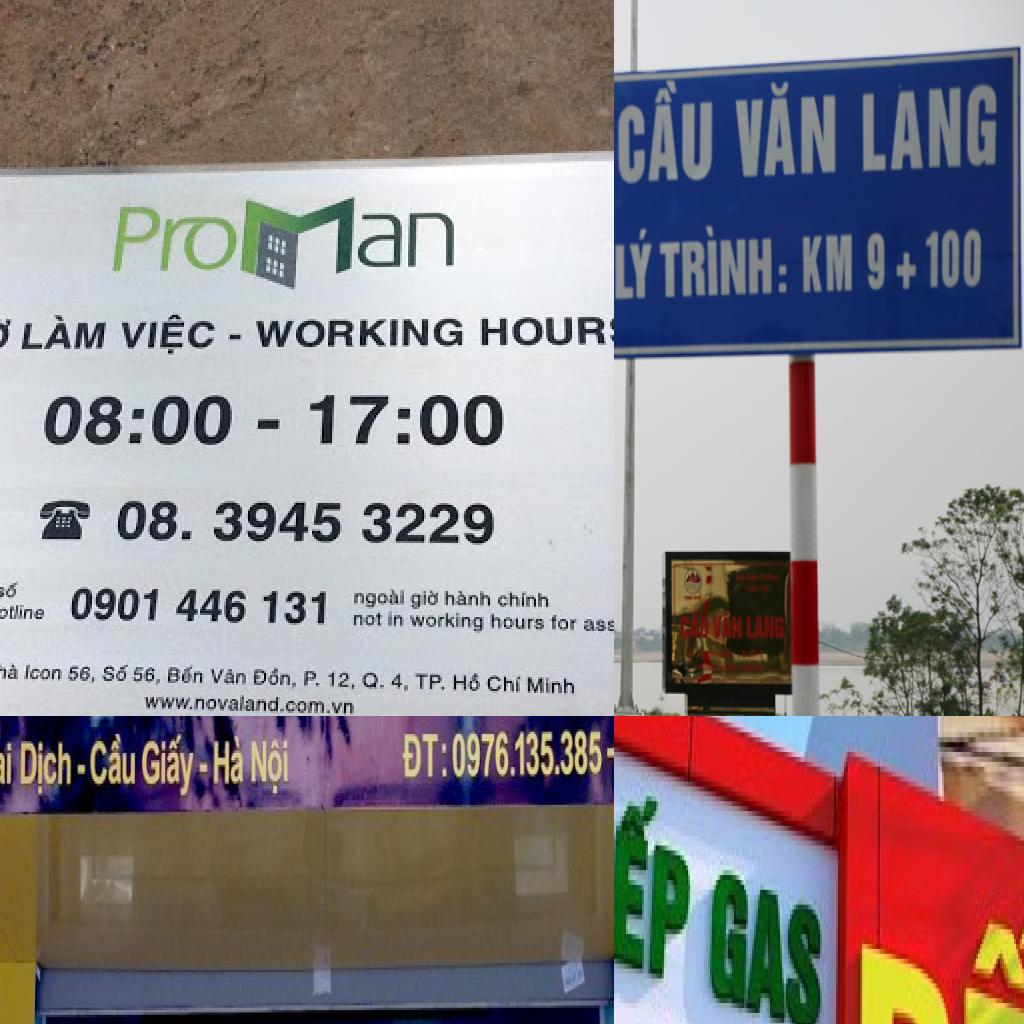text: (852, 836, 1024, 1024), (702, 850, 832, 1024), (614, 757, 700, 1008), (114, 497, 498, 549), (68, 583, 332, 631), (861, 84, 997, 174), (306, 391, 508, 449), (40, 393, 240, 449), (731, 79, 838, 180), (617, 78, 714, 186), (658, 221, 788, 301), (108, 203, 242, 277), (453, 725, 605, 781), (254, 315, 468, 353), (356, 211, 460, 273), (142, 693, 360, 716), (478, 313, 614, 349), (118, 315, 220, 357), (18, 313, 112, 355), (142, 732, 198, 800), (926, 228, 983, 290), (19, 736, 72, 798), (802, 233, 854, 295), (399, 727, 451, 786), (614, 227, 654, 302), (249, 729, 290, 798), (90, 732, 139, 788), (211, 727, 245, 793), (408, 611, 486, 635), (252, 665, 300, 693), (352, 587, 408, 611), (526, 675, 578, 699), (867, 232, 887, 294), (496, 589, 552, 611), (490, 613, 548, 633), (746, 614, 786, 642), (0, 603, 48, 625), (24, 661, 66, 685), (444, 589, 494, 609), (166, 663, 206, 687), (208, 667, 250, 689), (681, 608, 709, 641), (486, 673, 524, 697), (713, 611, 743, 641), (132, 663, 164, 689), (896, 252, 917, 291), (414, 671, 450, 693), (68, 663, 100, 687), (102, 663, 132, 687), (328, 667, 358, 691), (452, 673, 484, 695), (548, 613, 580, 635), (582, 615, 614, 637), (0, 736, 13, 790), (410, 589, 440, 611), (390, 669, 414, 695), (0, 579, 24, 603), (352, 611, 384, 629), (362, 669, 388, 691), (302, 667, 324, 691), (0, 661, 22, 683), (386, 611, 406, 631), (198, 755, 210, 779), (76, 760, 88, 779), (605, 741, 614, 764), (745, 573, 761, 583)
